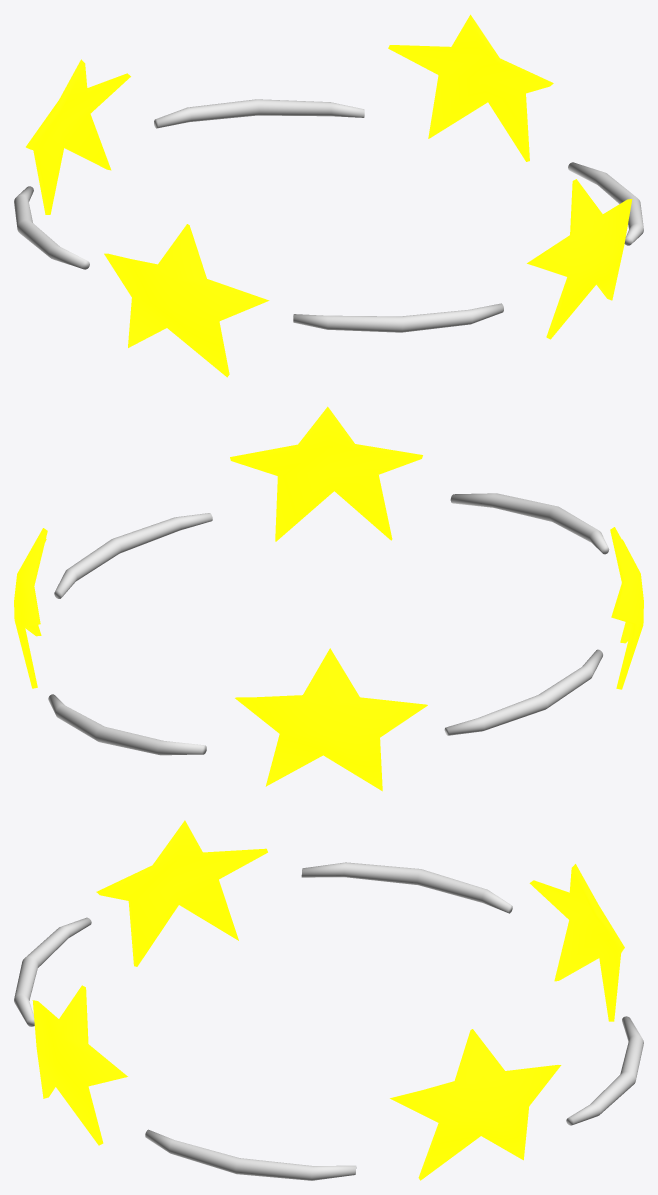
Rendered from Stars4.fbx.
The picture shows the model from 3 angles, top to bottom: view 1: azimuth 30°, elevation 25°; view 2: azimuth 150°, elevation 25°; view 3: azimuth 270°, elevation 25°; orthographic projection.
Visible parts, largest first — view 1: Cube.010; view 2: Cube.010; view 3: Cube.010.
Boxes of the visible parts, <box> form: Cube.010: <box>14,14,643,377</box>; Cube.010: <box>14,406,643,791</box>; Cube.010: <box>14,820,643,1180</box>.
Size of the model in its own units: 218 by 53.19 by 219.
